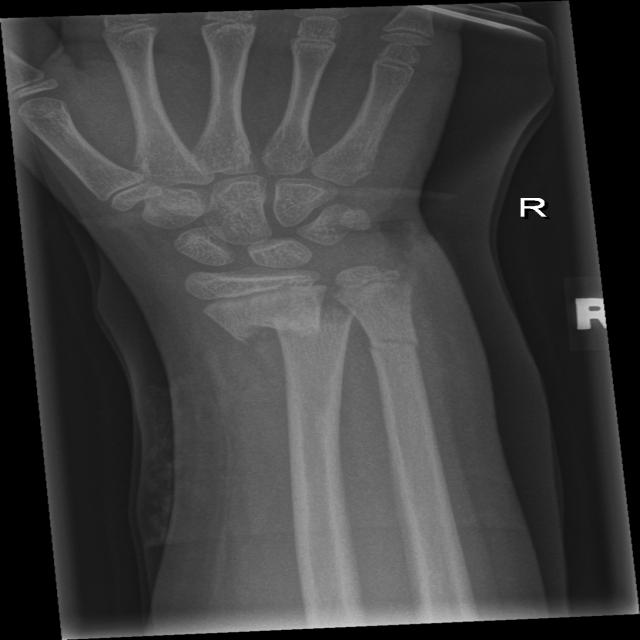radius fracture: (186, 300, 337, 391)
ulna fracture: (360, 313, 444, 407)
